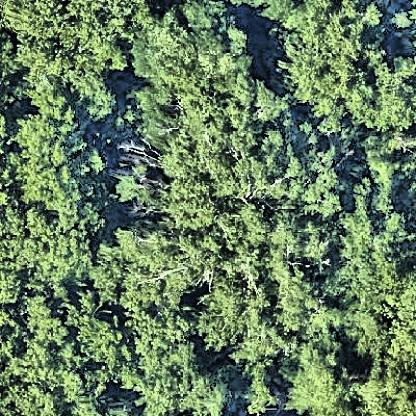tree-top: (163, 77, 304, 203), (10, 1, 140, 118), (194, 250, 324, 361), (276, 0, 383, 111), (132, 5, 251, 100), (0, 306, 84, 414), (97, 223, 201, 310), (338, 188, 410, 309), (4, 195, 97, 286), (129, 319, 216, 416), (14, 106, 94, 205), (284, 345, 352, 416), (369, 42, 416, 134), (347, 355, 416, 415), (74, 302, 131, 374), (303, 144, 358, 214), (362, 126, 416, 188), (339, 304, 390, 362), (114, 162, 161, 215), (7, 1, 68, 41), (238, 362, 282, 416), (387, 310, 416, 364), (389, 4, 416, 31)
